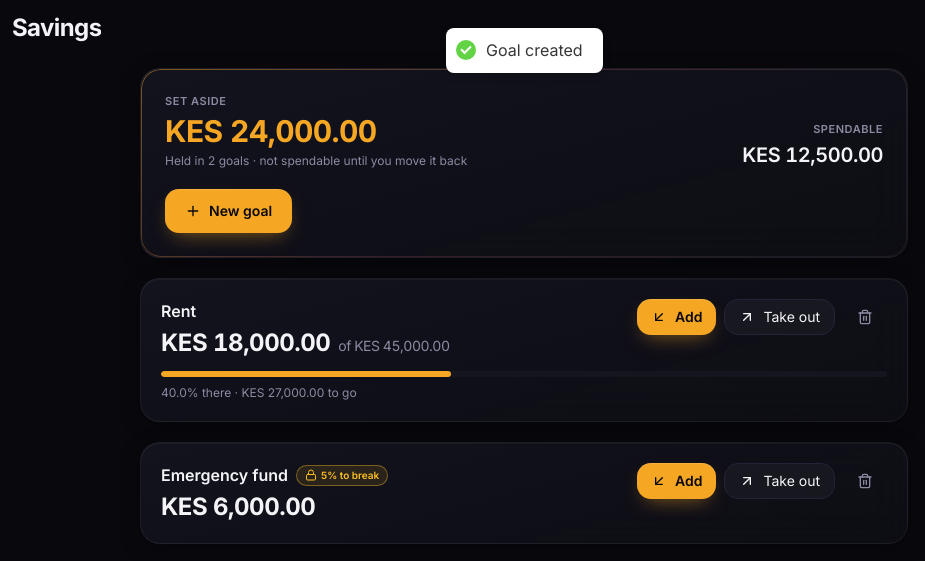
Savings › refuses to close a goal that still holds money
The width and height of the screenshot is (925, 561).
Click the button named "close rent": point(865, 317) top-left (843, 299), bottom-right (887, 335)
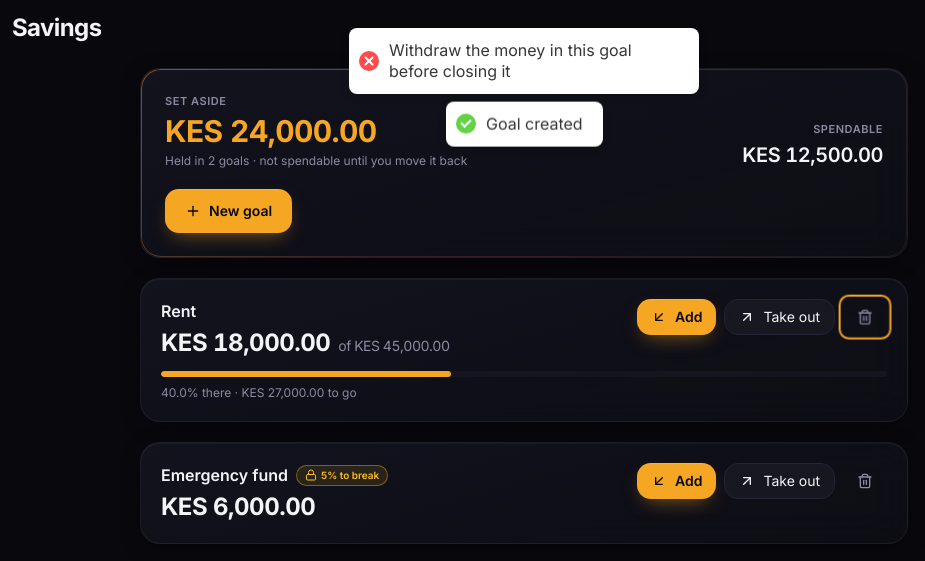
Expected: the text "Rent" is shown, top-left (161, 299), bottom-right (196, 323)
Now the text "Withdraw the money in this goal before closing it" is shown, box top-left (389, 40), bottom-right (632, 81)
